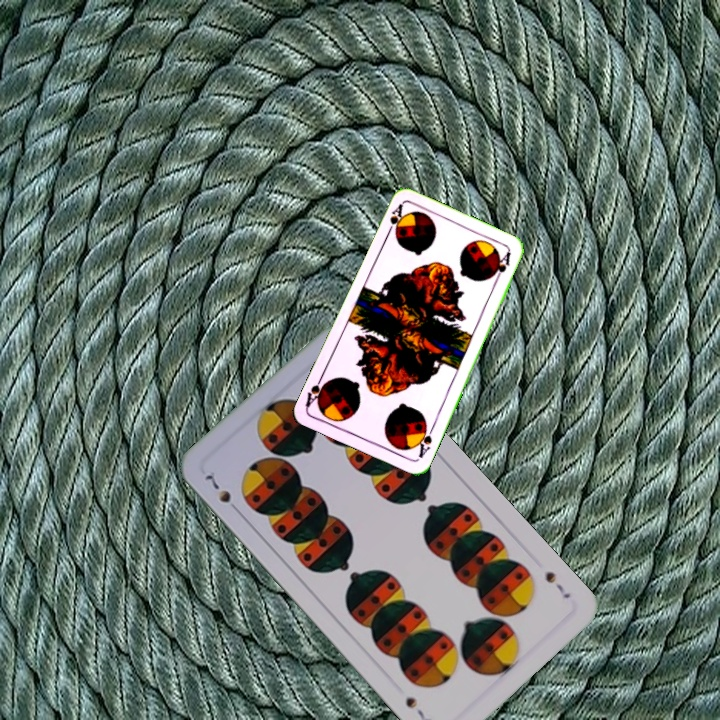S7: (200, 470, 243, 517), (541, 567, 574, 602)
SA: (412, 419, 437, 461), (382, 200, 406, 239)
